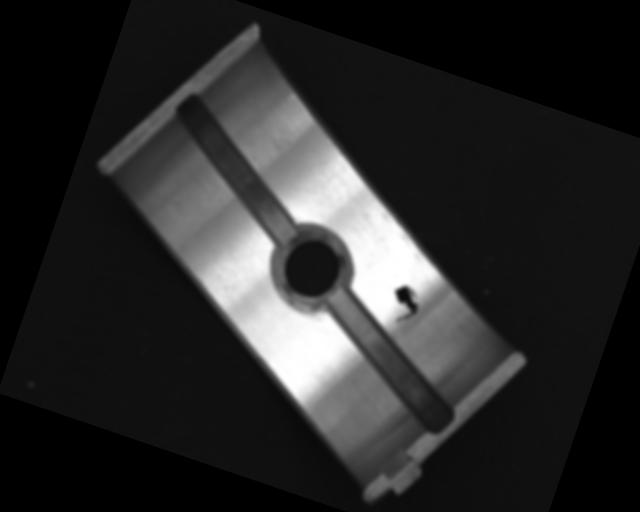blot: (383, 281, 425, 329)
gap: (146, 93, 328, 249), (300, 285, 478, 438)
hole: (270, 226, 355, 315)
